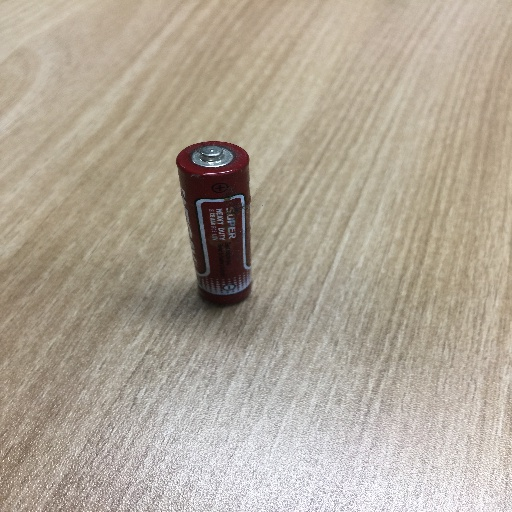Battery_0: (167, 130, 271, 328)
